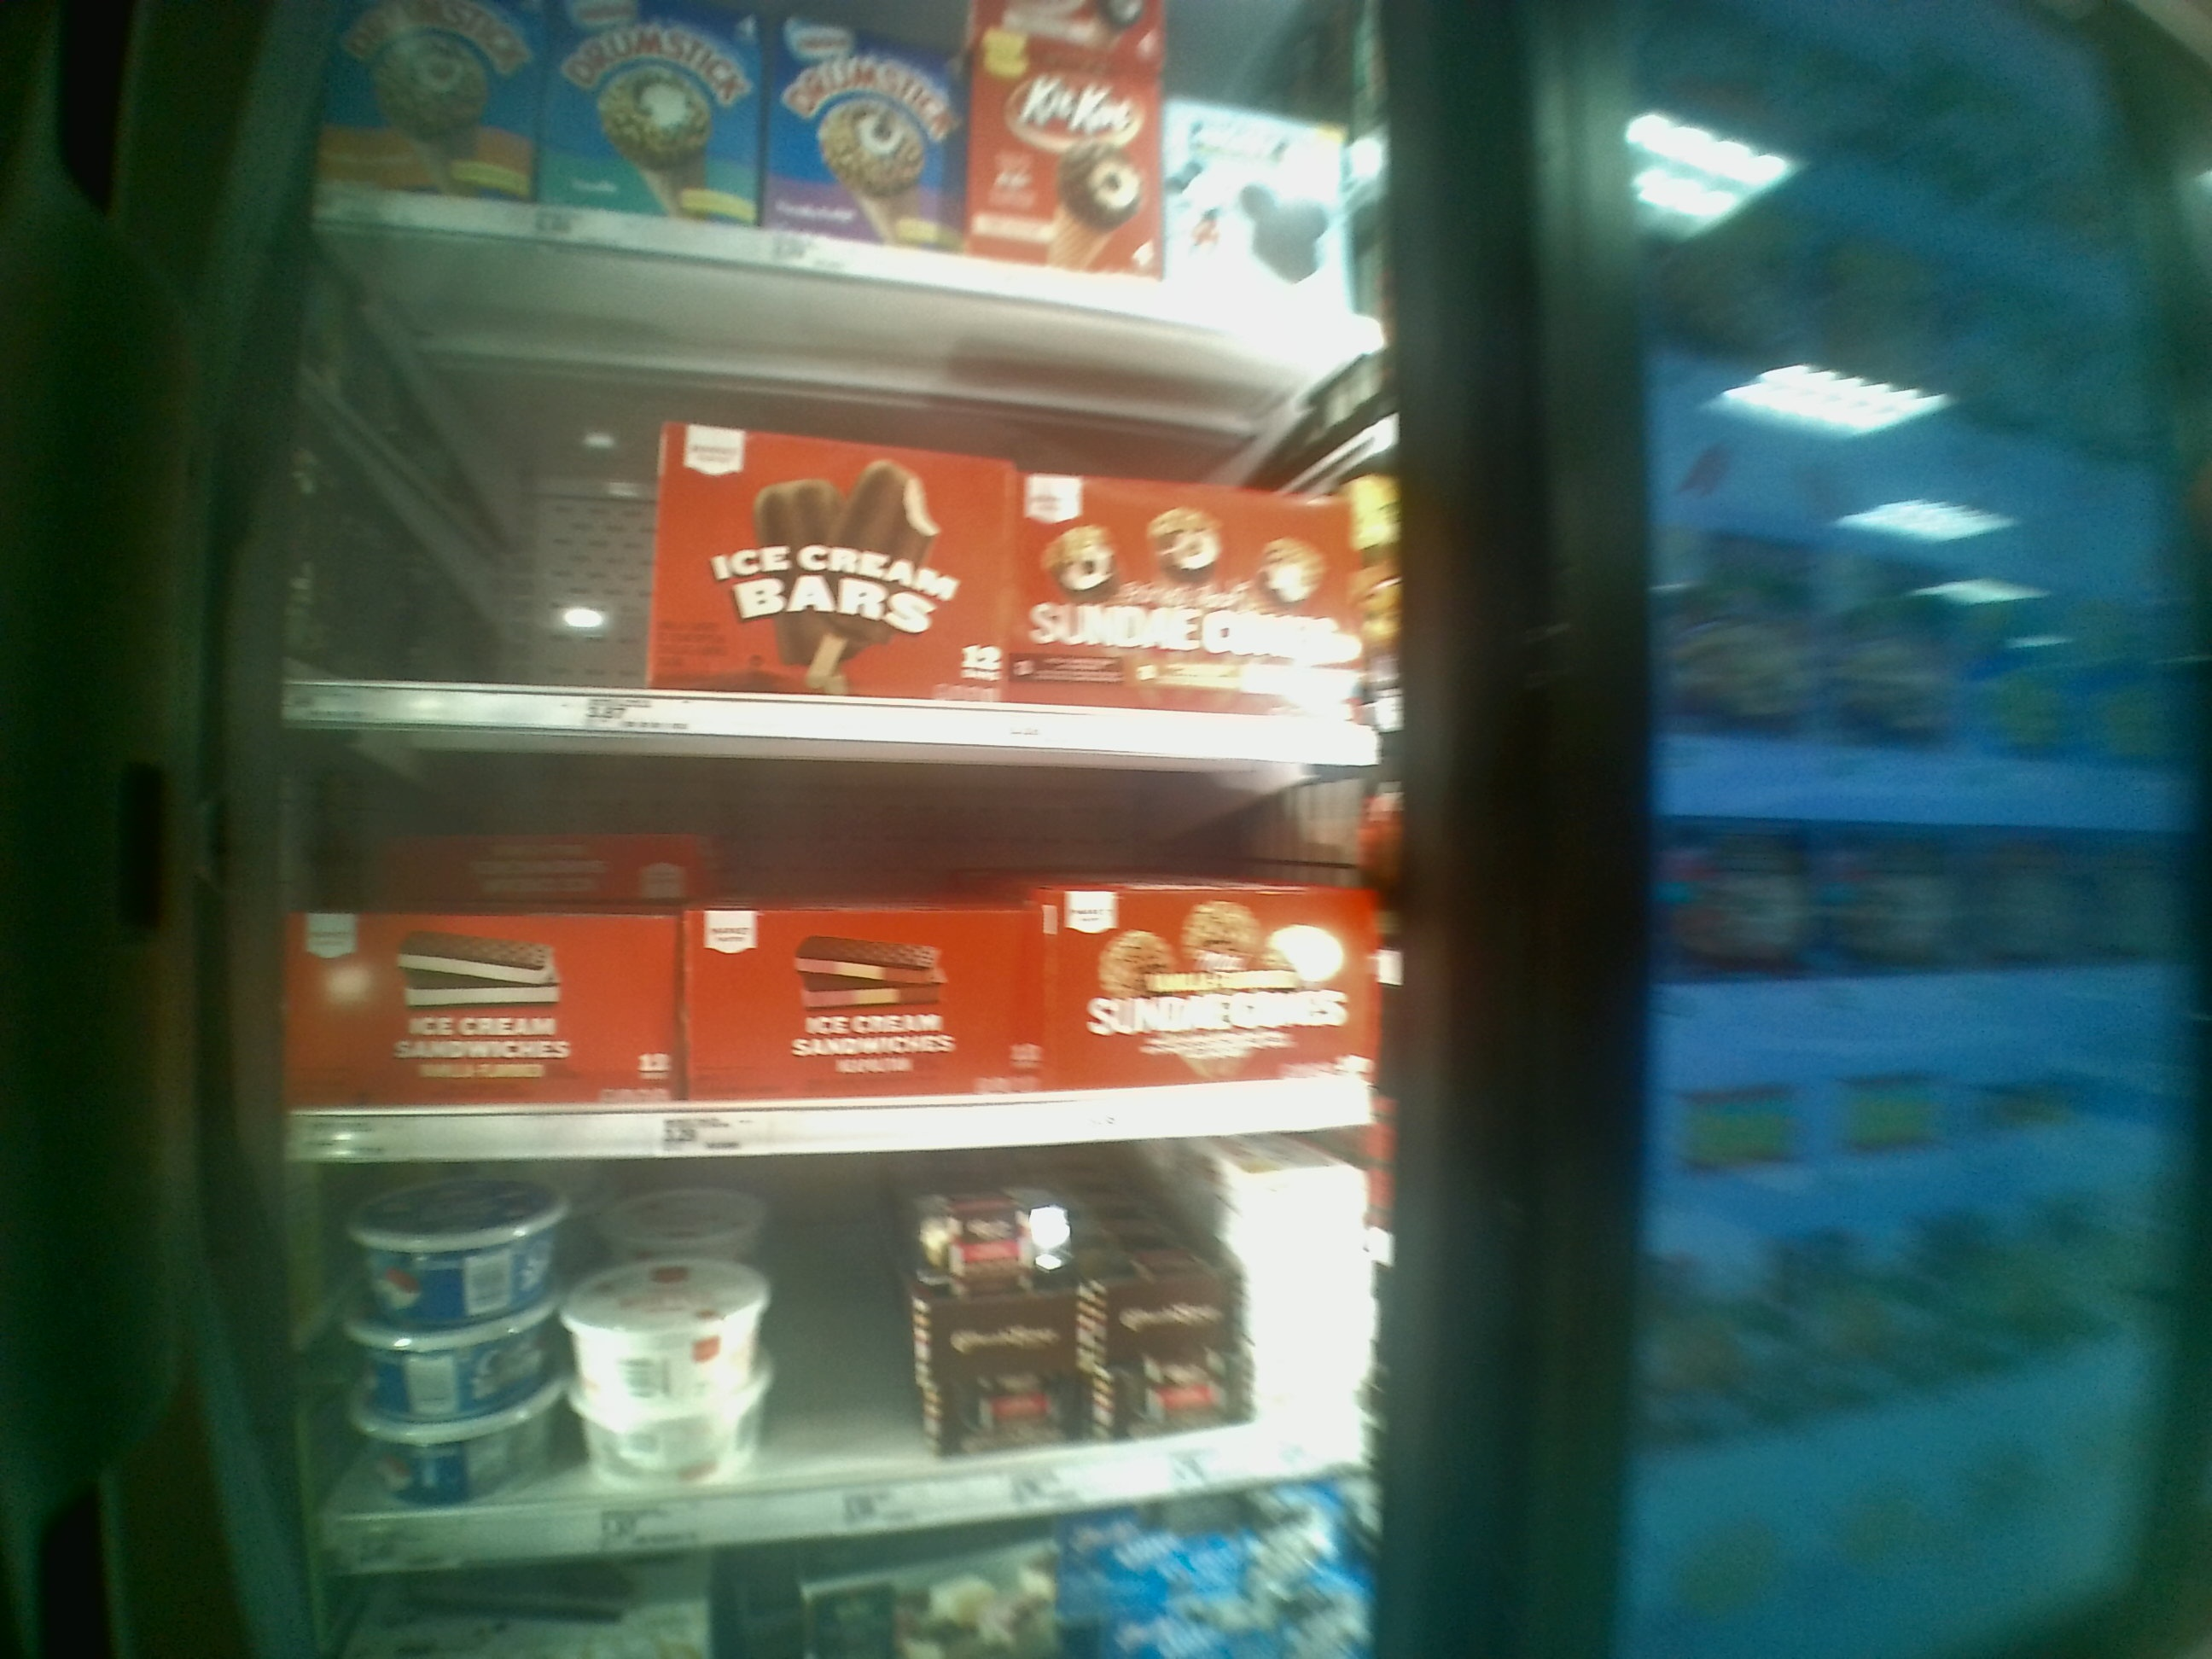shelf: (289, 279, 1397, 779), (289, 1187, 1379, 1575), (266, 777, 1371, 1152)
